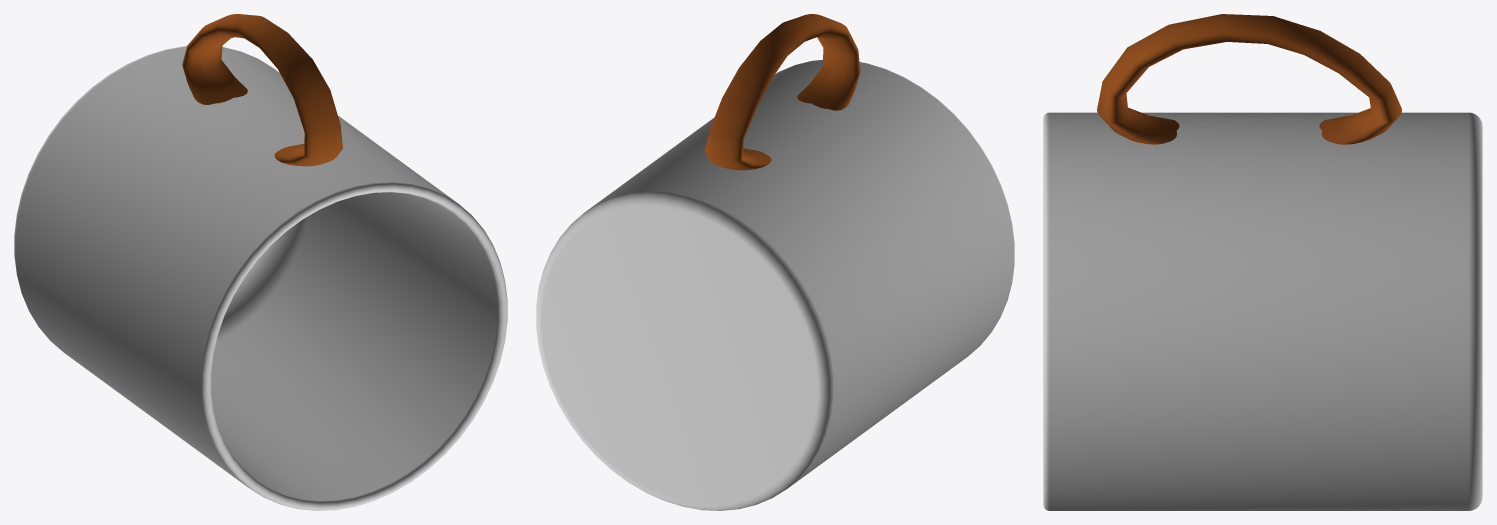
The model's file is model_align.obj.
The picture shows the model from 3 angles, left to right: view 1: azimuth 30°, elevation 25°; view 2: azimuth 150°, elevation 25°; view 3: azimuth 270°, elevation 25°; orthographic projection. The views are drawn at different scales.
Parts seen in each view (by area): view 1: mesh2_mesh2-geometry, mesh1_mesh1-geometry; view 2: mesh2_mesh2-geometry, mesh1_mesh1-geometry; view 3: mesh2_mesh2-geometry, mesh1_mesh1-geometry.
Boxes of the visible parts, x1,y1,x2,y2 form: mesh2_mesh2-geometry: (14,46,507,510); mesh1_mesh1-geometry: (182,14,342,166); mesh2_mesh2-geometry: (536,60,1014,510); mesh1_mesh1-geometry: (704,14,860,170); mesh2_mesh2-geometry: (1043,112,1482,510); mesh1_mesh1-geometry: (1097,14,1401,144).
Bounding box in the file's own units: 0.093 × 0.1222 × 0.1025.
